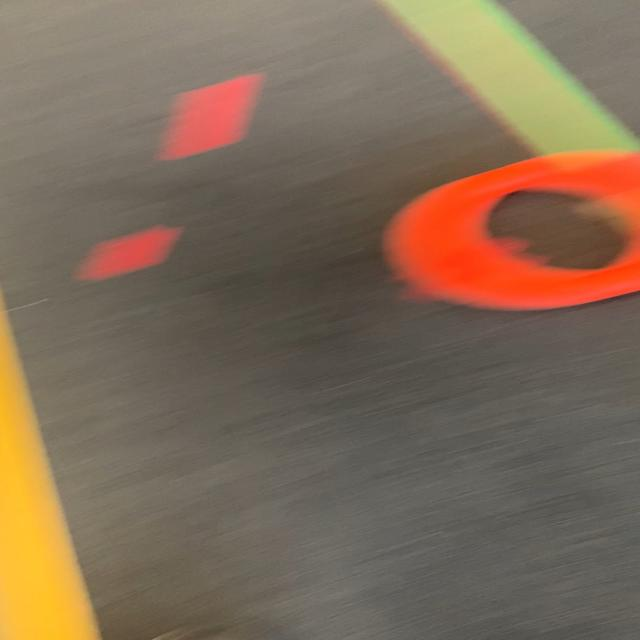notes: (386, 152, 640, 313)
